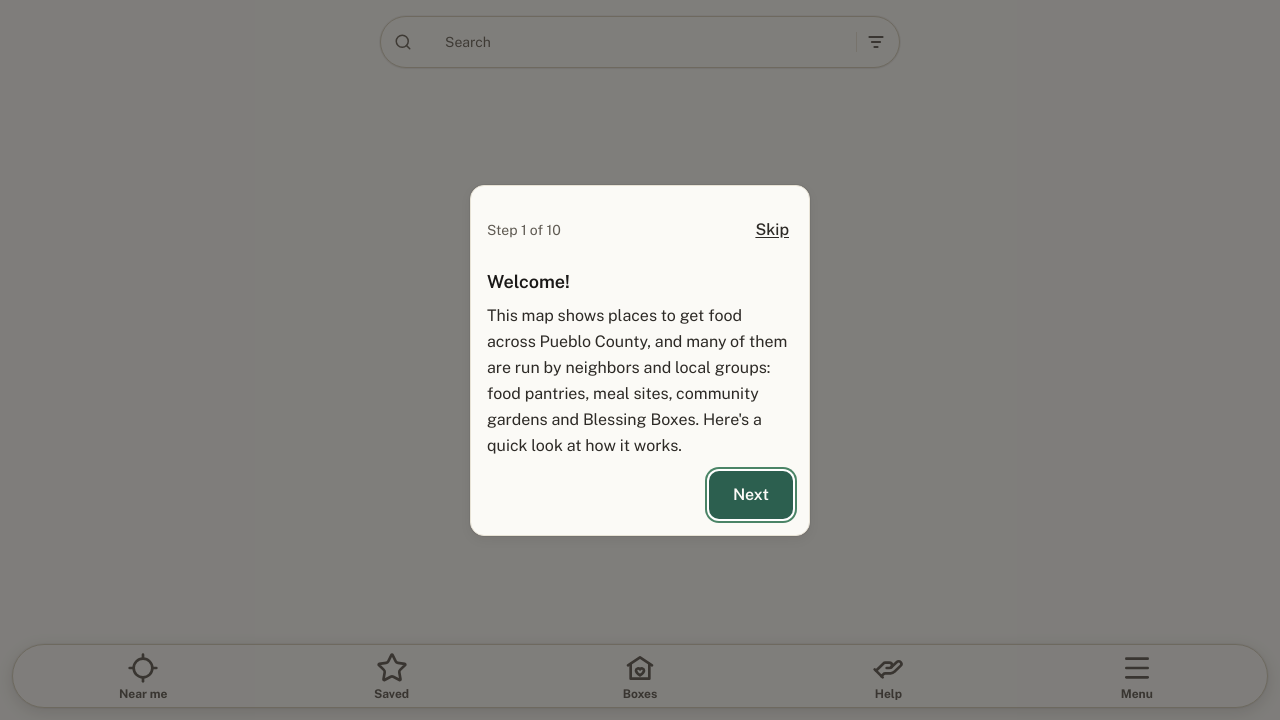
MapWrapper — starting and ending the tour › desktop: the card step opens the side panel, and ending the tour shuts it
Click the button "Next" at (751, 495), box [709, 471, 793, 519]
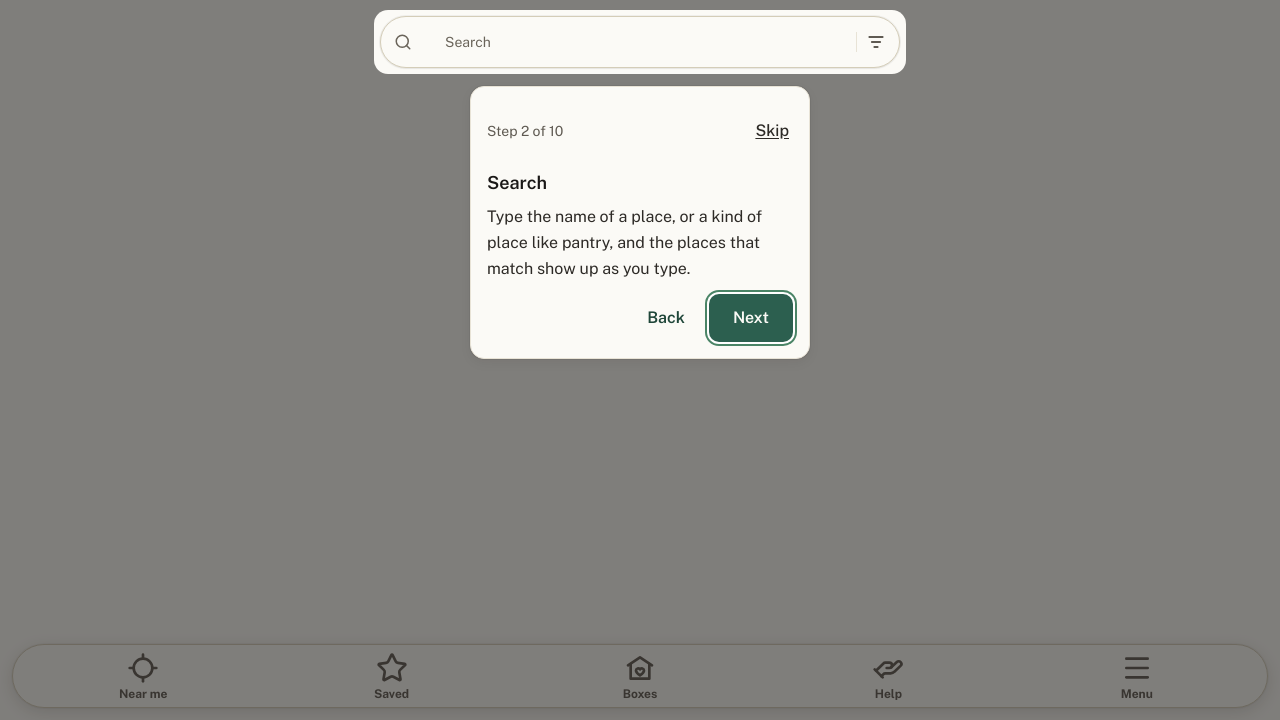
Click the button "Next" at (751, 318), box [709, 294, 793, 342]
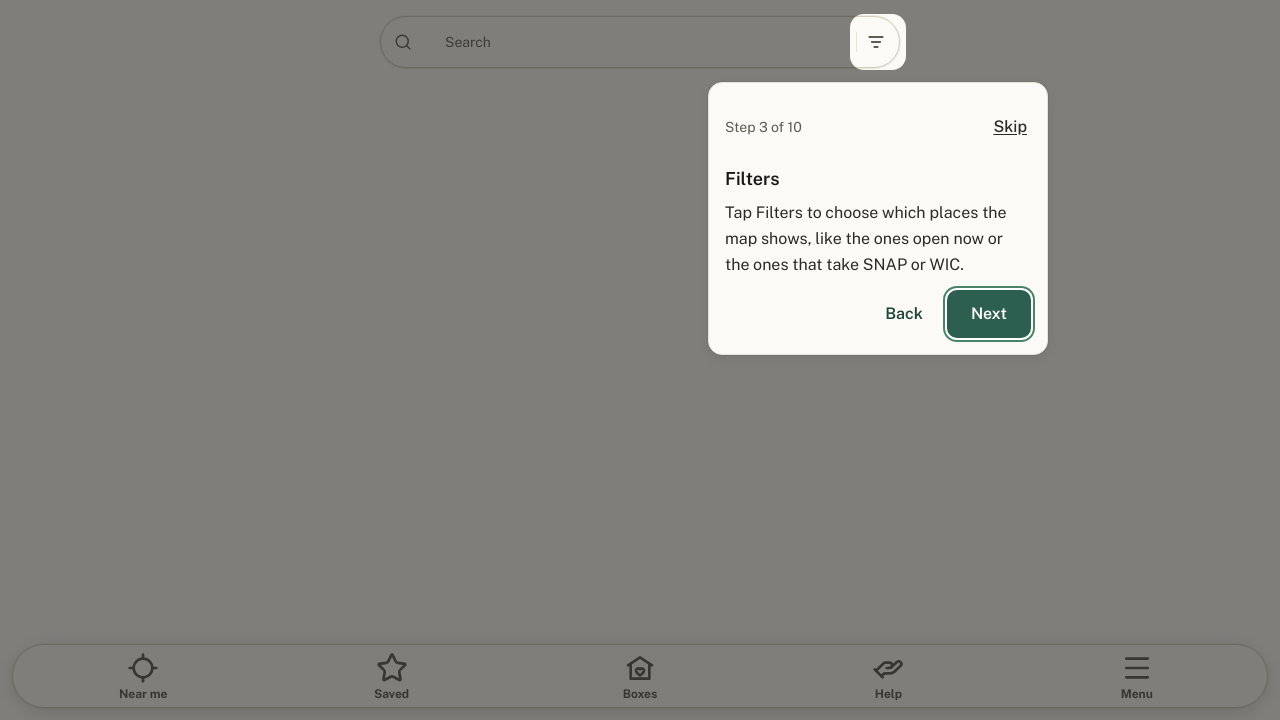
Click the button "Next" at (989, 314), box [947, 290, 1031, 338]
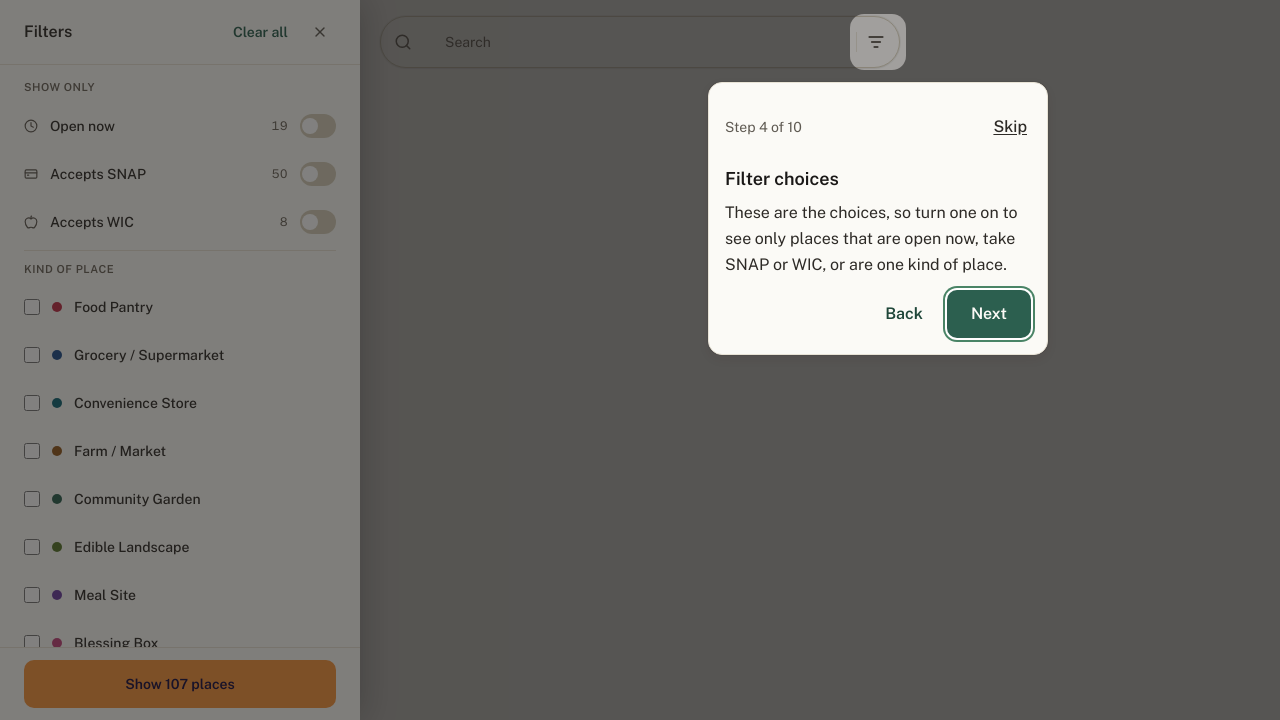
Click the button "Next" at (989, 314), box [947, 290, 1031, 338]
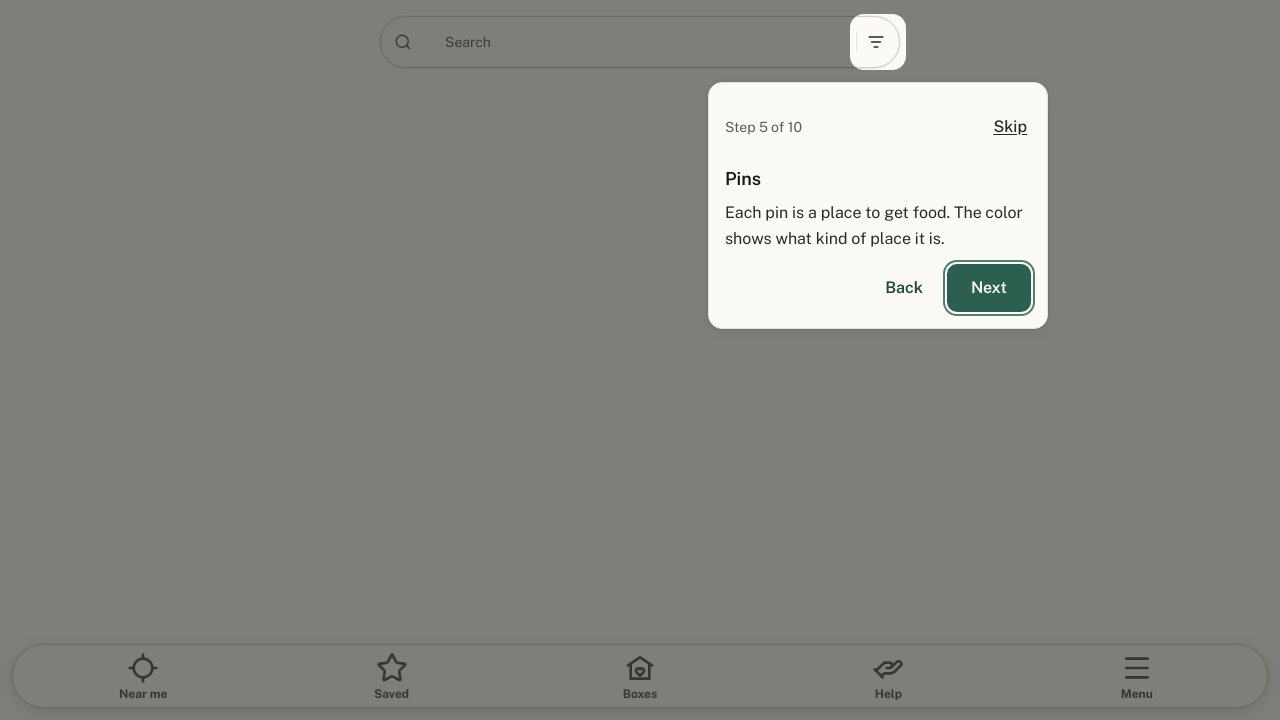
Click the button "Next" at (989, 288), box [947, 264, 1031, 312]
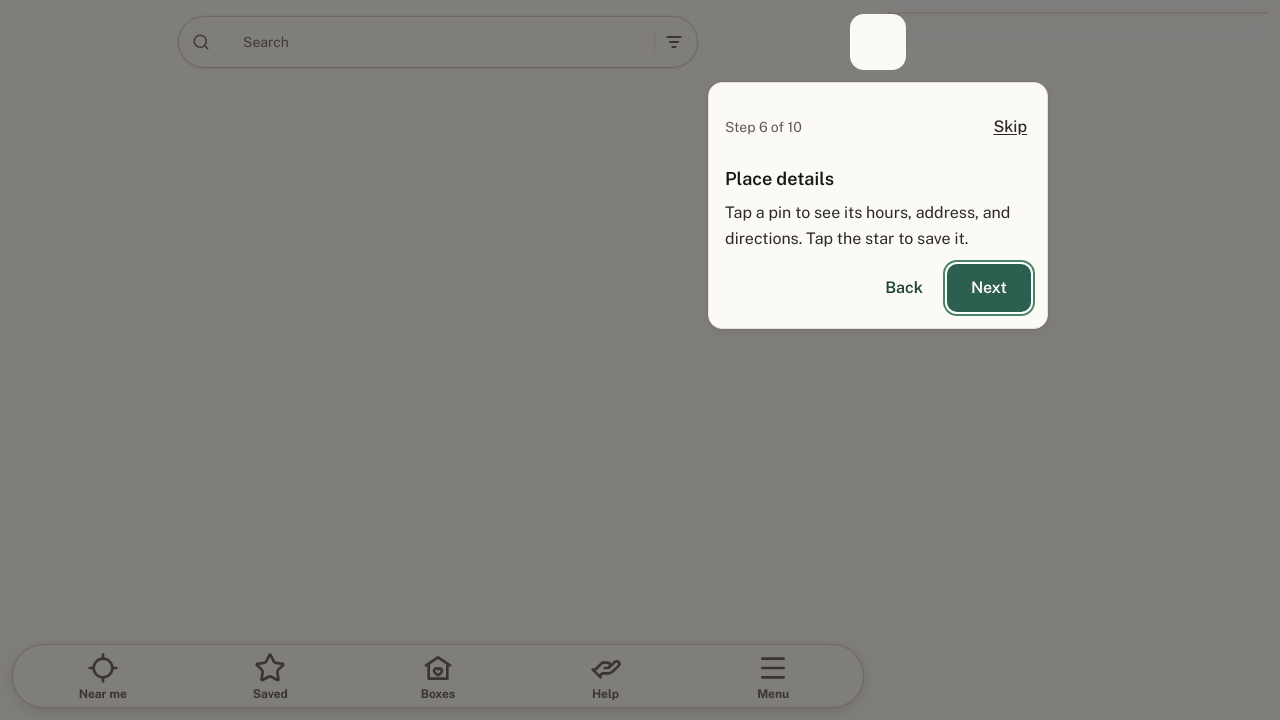
Expected: the element with test id "desktop-side-panel" is shown, [888, 12, 1268, 14]
Click the button "Skip" at (1010, 127), box [981, 103, 1039, 151]
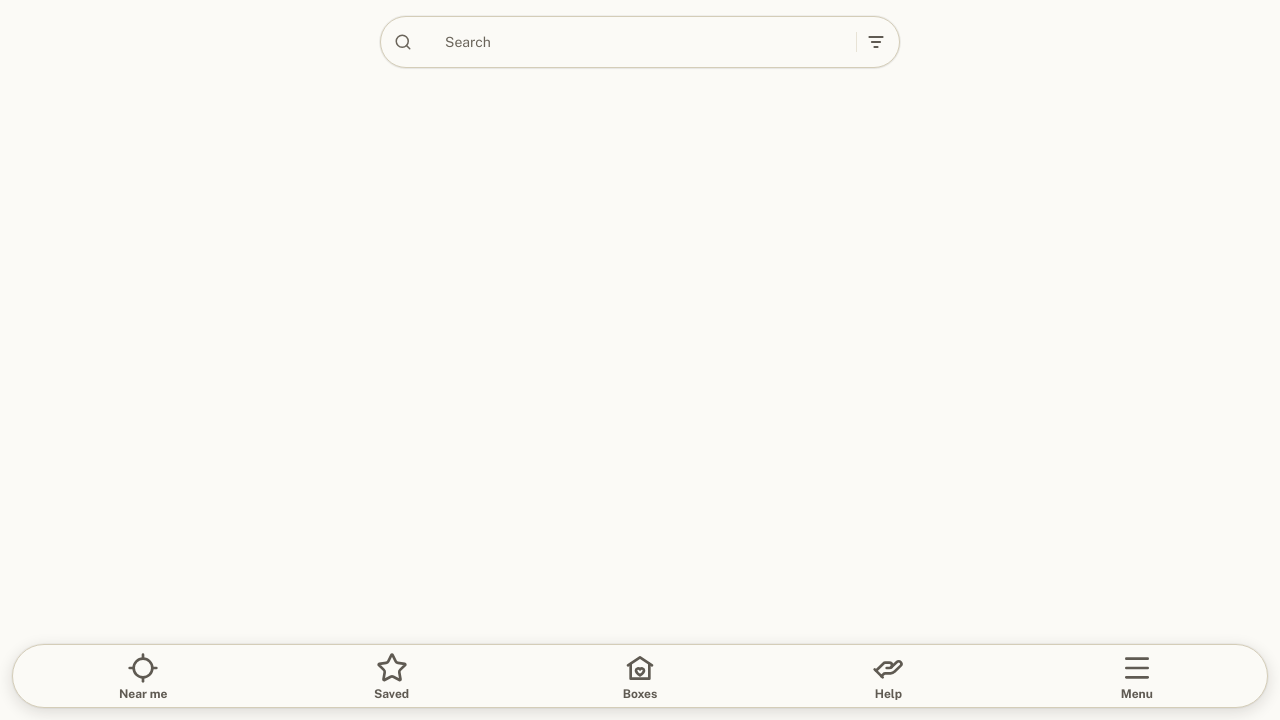
Now the element with test id "guided-tour" is gone
Now the element with test id "desktop-side-panel" is gone
